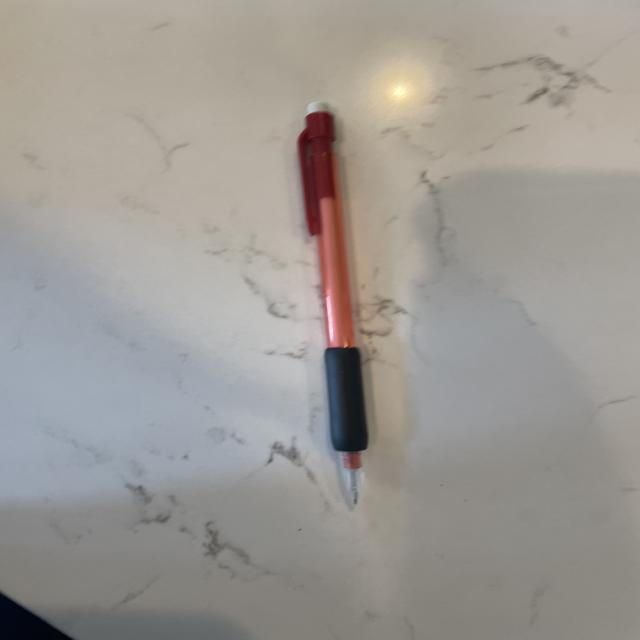mechanical-pencils: (293, 108, 369, 518)
